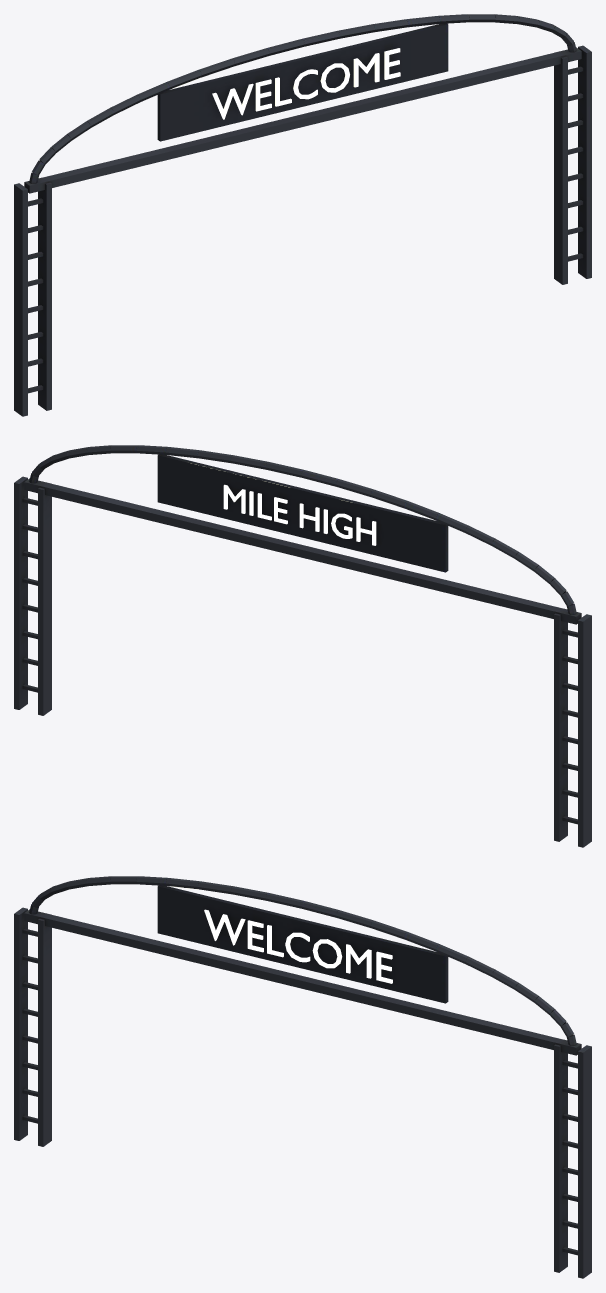
File: arco_denver.glb
3 views of the same model, one above another, from view 1: azimuth 30°, elevation 25°; view 2: azimuth 150°, elevation 25°; view 3: azimuth 330°, elevation 25° (orthographic).
Visible parts, largest first — view 1: arco_denver; view 2: arco_denver; view 3: arco_denver.
Part boxes in pixels (<box>): arco_denver: <box>14,14,591,416</box>; arco_denver: <box>14,445,591,847</box>; arco_denver: <box>14,876,591,1278</box>.
Bounding box in the file's own units: 18.98 × 9.7 × 0.51.
Materials: 1 (1 with a texture image).
